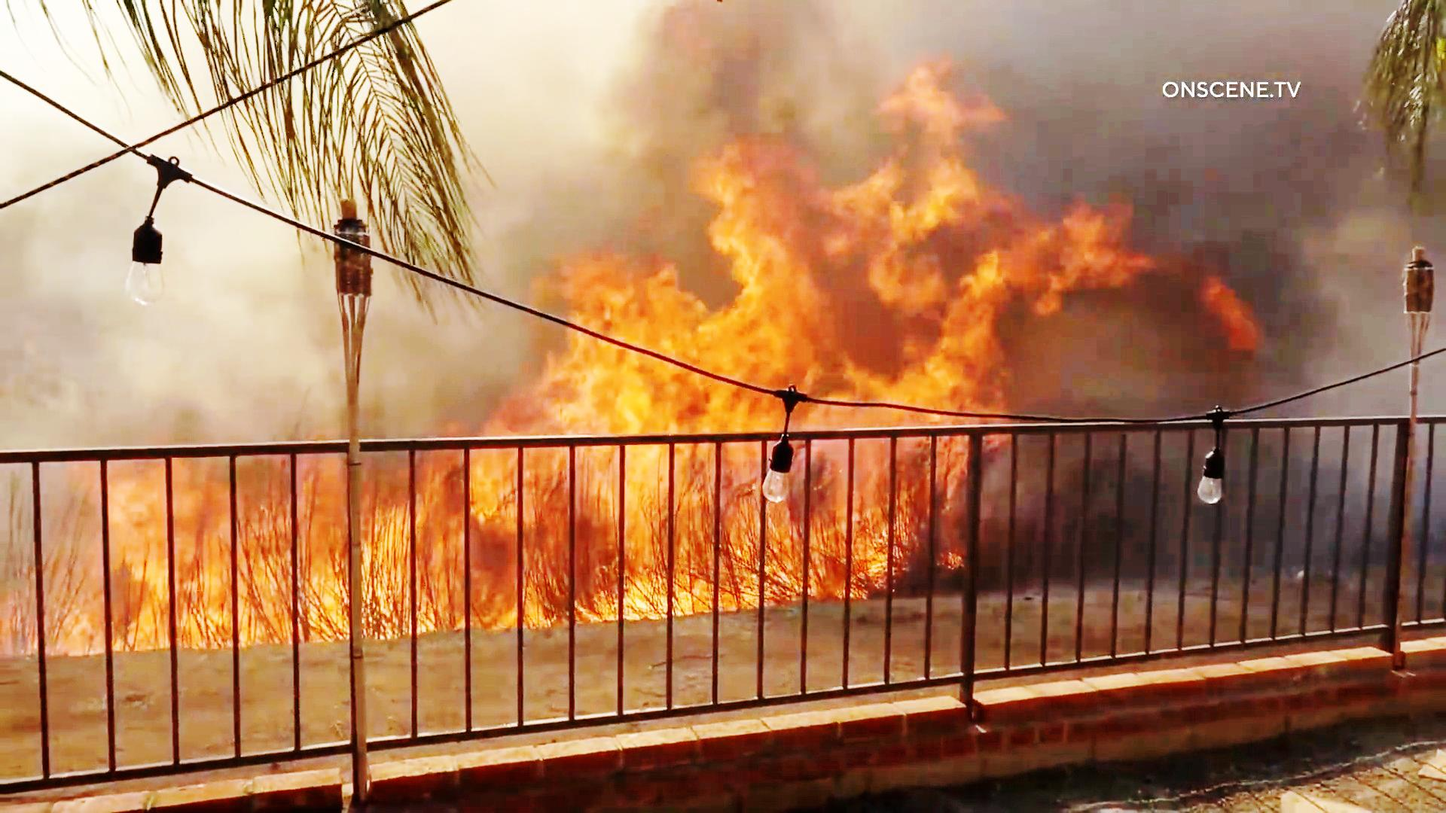fire: (588, 62, 1023, 432), (40, 469, 728, 621)
smoke: (1077, 115, 1314, 223), (1049, 313, 1198, 428), (993, 12, 1100, 101)
